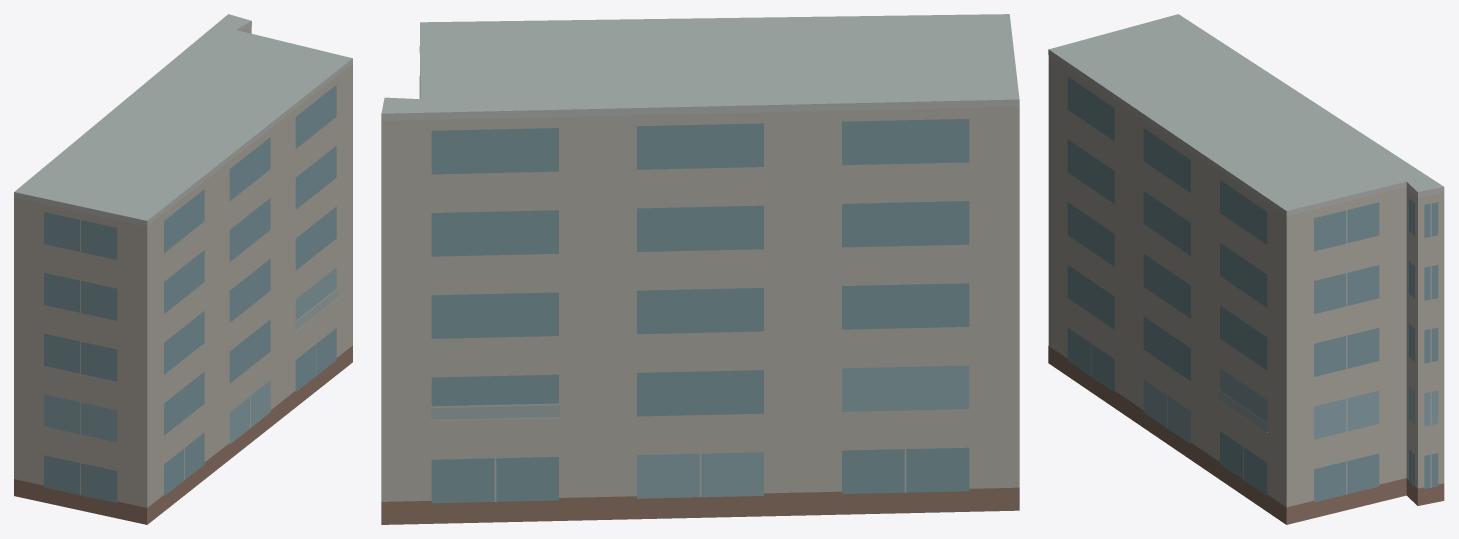
File: survey-upis-32770054.glb
3 views of the same model, side by side, from view 1: azimuth 30°, elevation 25°; view 2: azimuth 150°, elevation 25°; view 3: azimuth 270°, elevation 25° (orthographic). The views are drawn at different scales.
Visible parts, largest first — view 1: survey-upis-32770054.tmp; view 2: survey-upis-32770054.tmp; view 3: survey-upis-32770054.tmp.
Part boxes in pixels (x1=…): survey-upis-32770054.tmp: x1=14, y1=14, x2=352, y2=524; survey-upis-32770054.tmp: x1=381, y1=14, x2=1019, y2=524; survey-upis-32770054.tmp: x1=1048, y1=14, x2=1444, y2=524.
Bounding box in the file's own units: 18.72 × 13.9 × 15.9.
